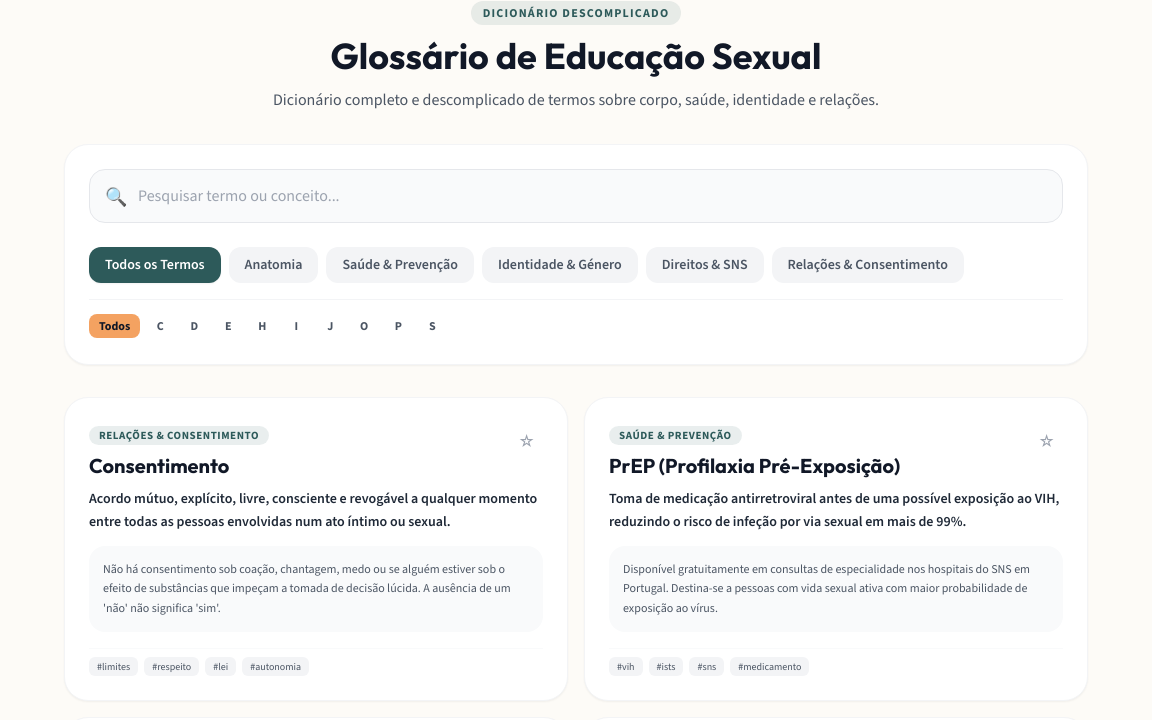
GlossaryTab › shows empty state message when no terms match category
The width and height of the screenshot is (1152, 720).
Click the button "Anatomia".
click(274, 265)  # box [229,247,318,283]
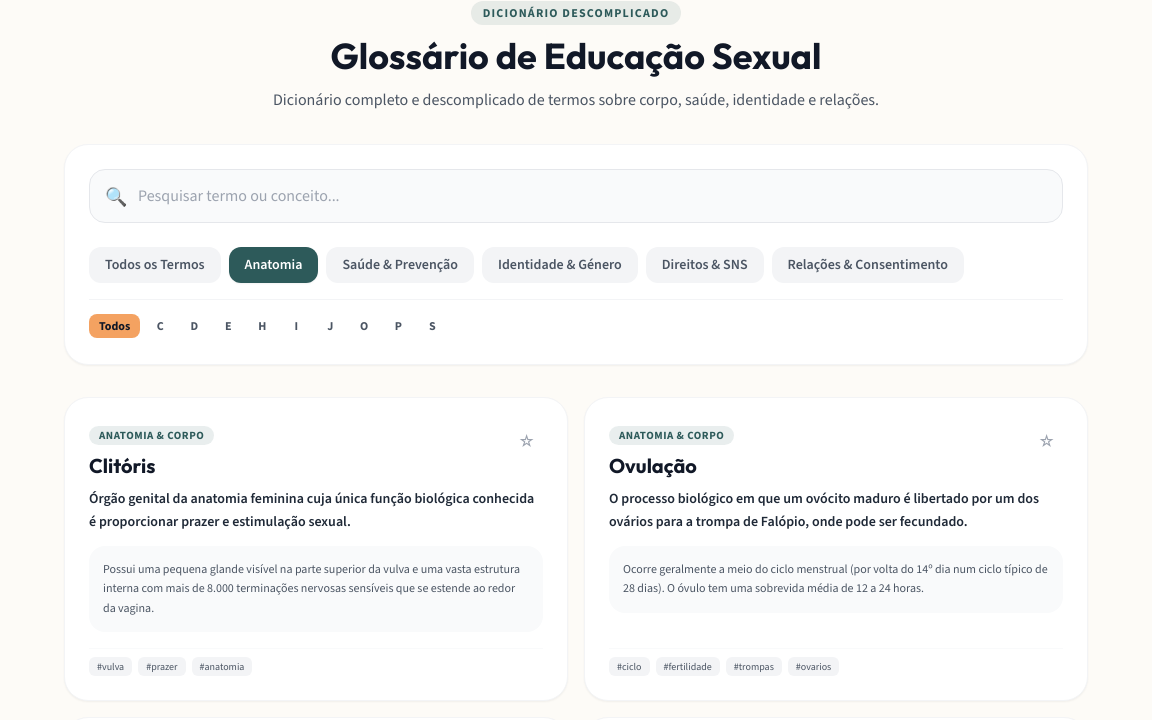
Type "xyzinexistente123" into the field with placeholder "Pesquisar termo ou conceito...".
click(576, 196); type("xyzinexistente123")  # box [89,169,1063,223]
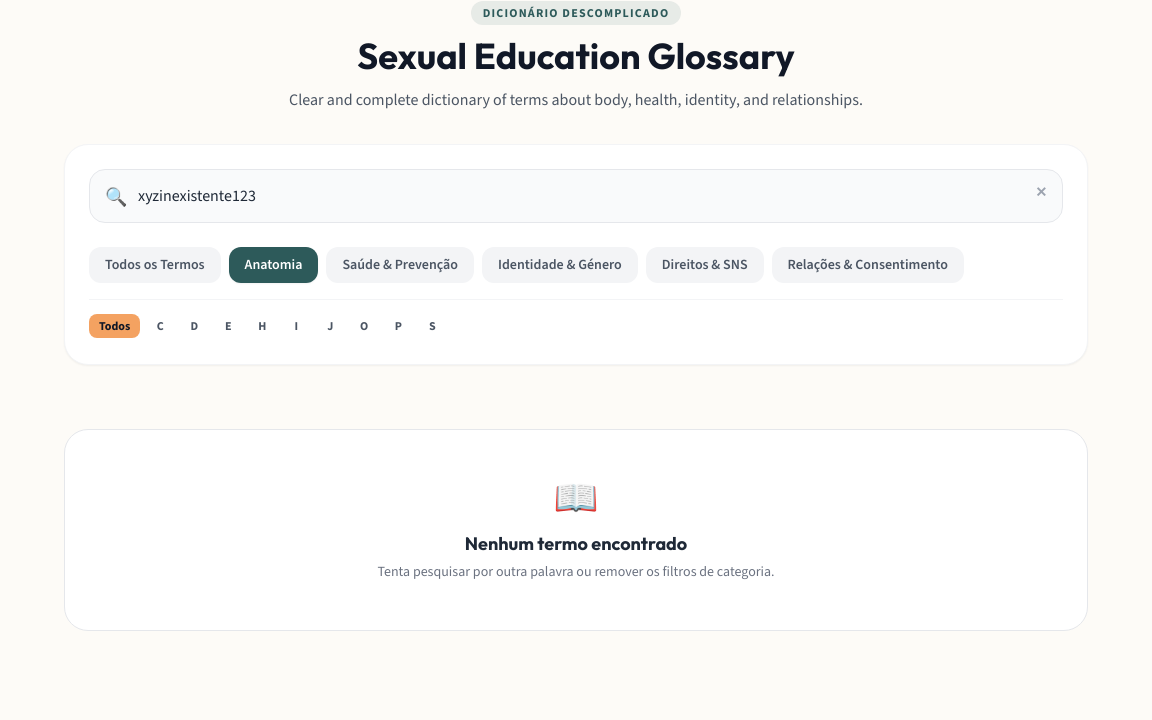
Check: the heading "Nenhum termo encontrado" is shown, box [465,532,687,555]
